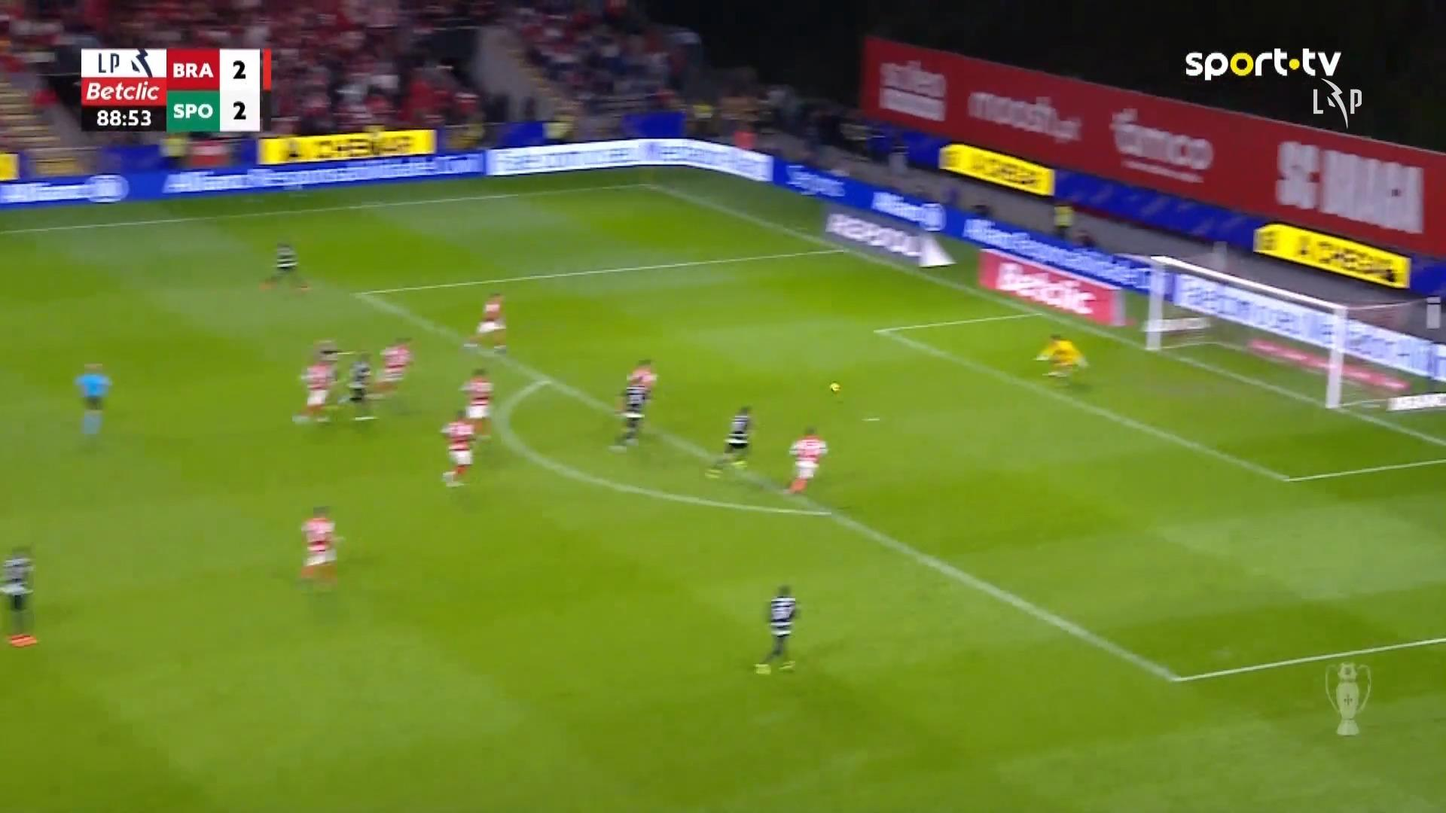ball: (828, 382, 840, 393)
goalkeeper: (1033, 331, 1088, 382)
player: (0, 538, 42, 650), (752, 583, 799, 674), (293, 339, 339, 423), (707, 403, 754, 477), (609, 376, 653, 453), (299, 504, 340, 584), (782, 425, 828, 495), (439, 407, 477, 487), (465, 291, 508, 352), (459, 367, 494, 439), (377, 335, 413, 395), (343, 352, 374, 403), (273, 240, 299, 282), (627, 358, 657, 385)
referee: (74, 361, 112, 437)
